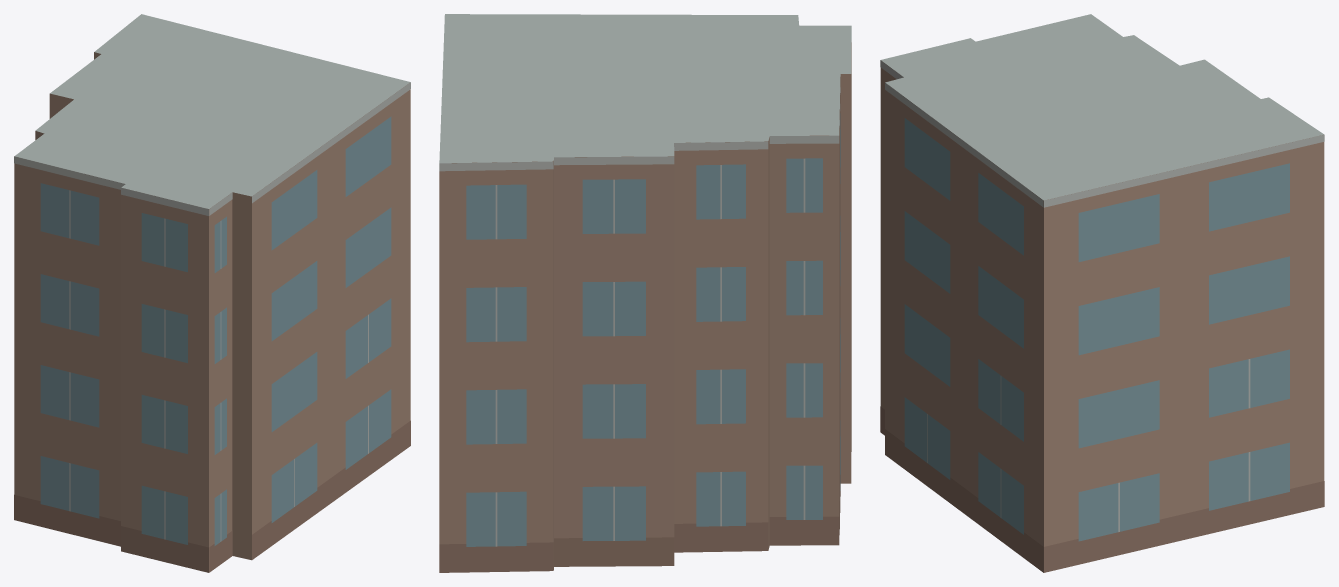
The model's file is survey-upis-32673024.glb.
3 renders of one model, left to right at view 1: azimuth 30°, elevation 25°; view 2: azimuth 150°, elevation 25°; view 3: azimuth 270°, elevation 25°, orthographic. The views are drawn at different scales.
Parts seen in each view (by area): view 1: survey-upis-32673024.tmp; view 2: survey-upis-32673024.tmp; view 3: survey-upis-32673024.tmp.
Boxes of the visible parts, x1,y1,x2,y2 form: survey-upis-32673024.tmp: (14, 14, 410, 572); survey-upis-32673024.tmp: (439, 14, 851, 572); survey-upis-32673024.tmp: (880, 14, 1324, 572).
Size of the model in its own units: 13.55 by 12.6 by 13.62.
